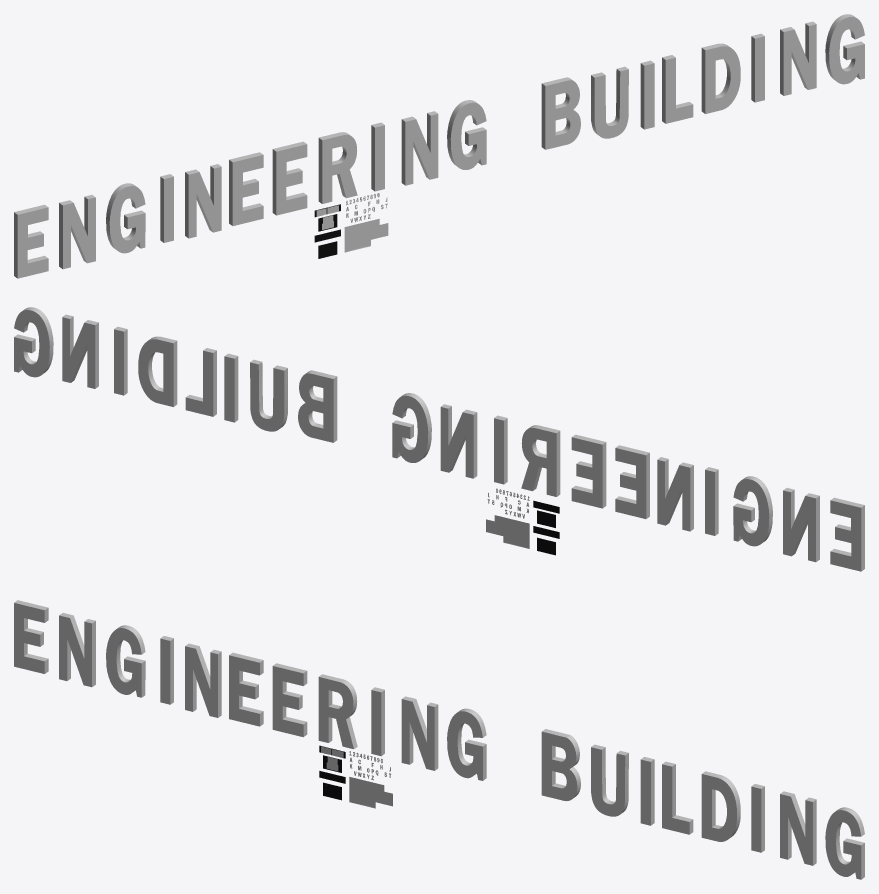
The model's file is Engr.glb.
3 renders of one model, top to bottom at view 1: azimuth 30°, elevation 25°; view 2: azimuth 150°, elevation 25°; view 3: azimuth 330°, elevation 25°, orthographic.
Parts seen in each view (by area): view 1: N_23, G_6, E_5, I_27, B_26, R_9, D_33, U_11, L_8; view 2: N_23, G_6, E_5, I_27, B_26, R_9, D_33, U_11, L_8; view 3: N_23, G_6, E_5, I_27, B_26, R_9, D_33, U_11, L_8.
Part boxes in pixels (bbox=[...]): N_23: bbox=[59, 21, 816, 269]; G_6: bbox=[106, 14, 864, 253]; E_5: bbox=[14, 141, 307, 278]; I_27: bbox=[160, 33, 764, 242]; B_26: bbox=[541, 77, 580, 149]; R_9: bbox=[318, 132, 357, 203]; D_33: bbox=[701, 43, 740, 113]; U_11: bbox=[591, 66, 628, 138]; L_8: bbox=[662, 55, 693, 123]; N_23: bbox=[62, 314, 819, 562]; G_6: bbox=[14, 307, 772, 546]; E_5: bbox=[571, 434, 864, 571]; I_27: bbox=[114, 326, 718, 535]; B_26: bbox=[298, 370, 337, 442]; R_9: bbox=[521, 425, 560, 496]; D_33: bbox=[138, 336, 177, 406]; U_11: bbox=[250, 359, 287, 431]; L_8: bbox=[185, 348, 216, 416]; N_23: bbox=[59, 613, 816, 865]; G_6: bbox=[106, 625, 864, 879]; E_5: bbox=[14, 600, 307, 737]; I_27: bbox=[160, 636, 764, 852]; B_26: bbox=[541, 729, 580, 801]; R_9: bbox=[318, 674, 357, 749]; D_33: bbox=[701, 771, 740, 841]; U_11: bbox=[591, 744, 628, 816]; L_8: bbox=[662, 761, 693, 834].
Bounding box in the file's own units: 9.75 × 1.35 × 0.0837.
Materials: 2 (2 with a texture image).
